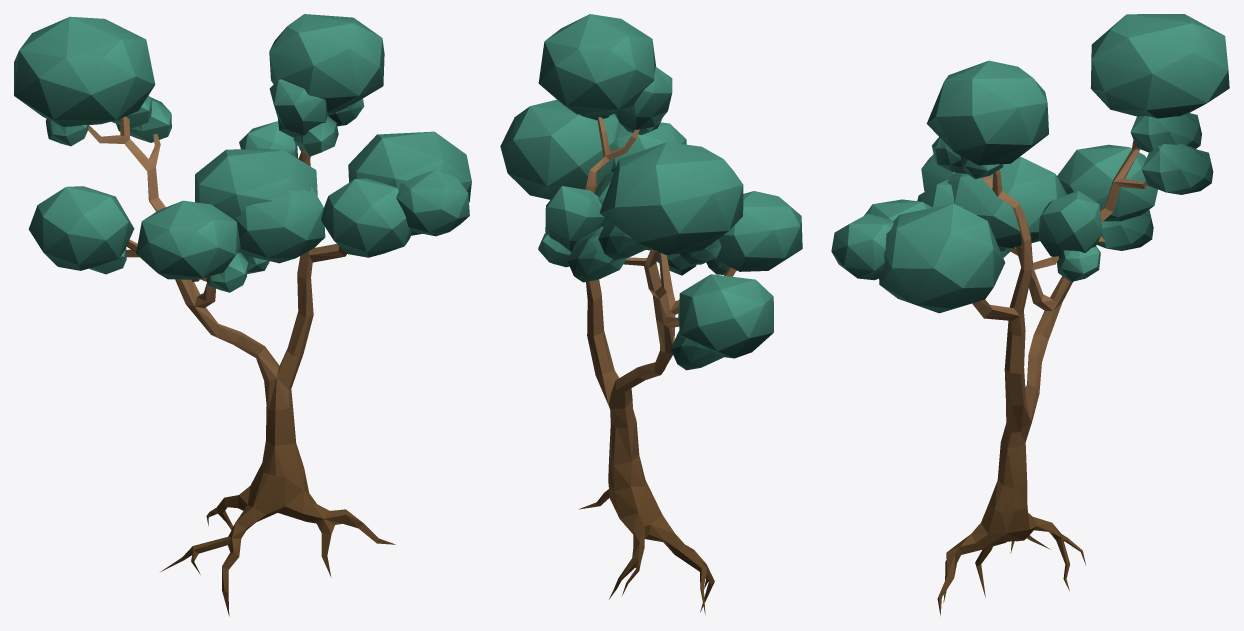
The model's file is ZLP_Plant_D_1.FBX.
3 views of the same model, side by side, from view 1: azimuth 30°, elevation 25°; view 2: azimuth 150°, elevation 25°; view 3: azimuth 270°, elevation 25° (orthographic).
Visible parts, largest first — view 1: ZLP_Plant_D_1; view 2: ZLP_Plant_D_1; view 3: ZLP_Plant_D_1.
Boxes of the visible parts, box(x1,y1,x2,y2) form: ZLP_Plant_D_1: box(14, 14, 471, 616); ZLP_Plant_D_1: box(500, 14, 802, 615); ZLP_Plant_D_1: box(831, 14, 1229, 615).
Bounding box in the file's own units: 639 × 1016 × 635.
